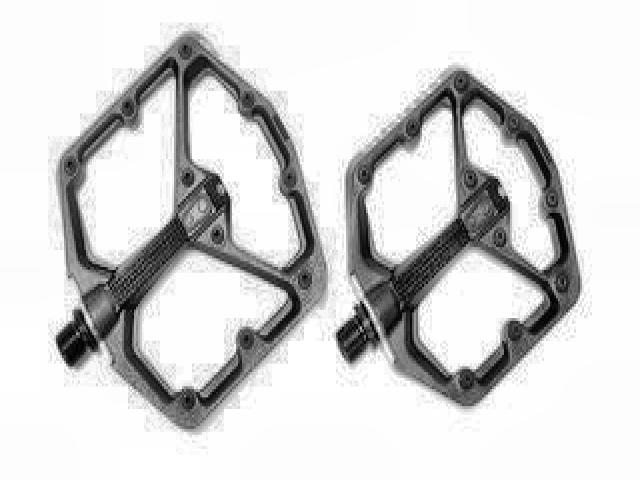pedal: (45, 31, 329, 432), (334, 62, 584, 410)
